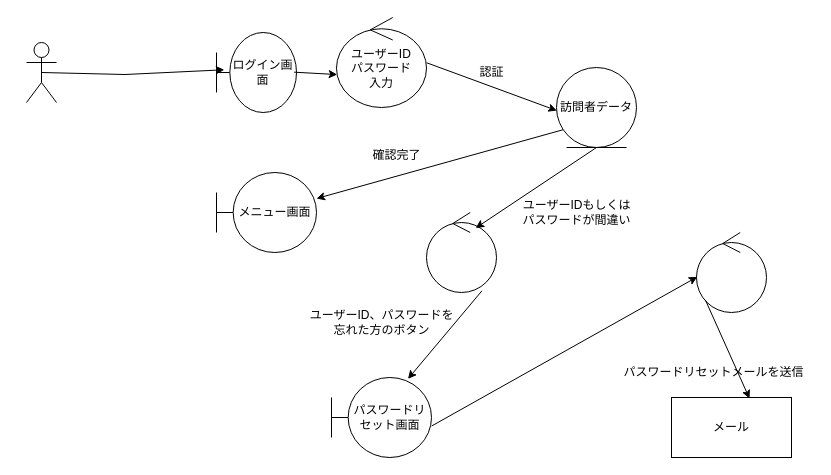
The diagram is 831 pixels wide and 475 high, and some of its shapes have lost their labels. The box of each missing label's shape, as (x1, y1, x2, y2) in pixels:
エラーメッセージ表示: (426, 212, 496, 292)
メールアドレス入力: (696, 232, 766, 312)
ユーザー: (26, 42, 56, 102)
